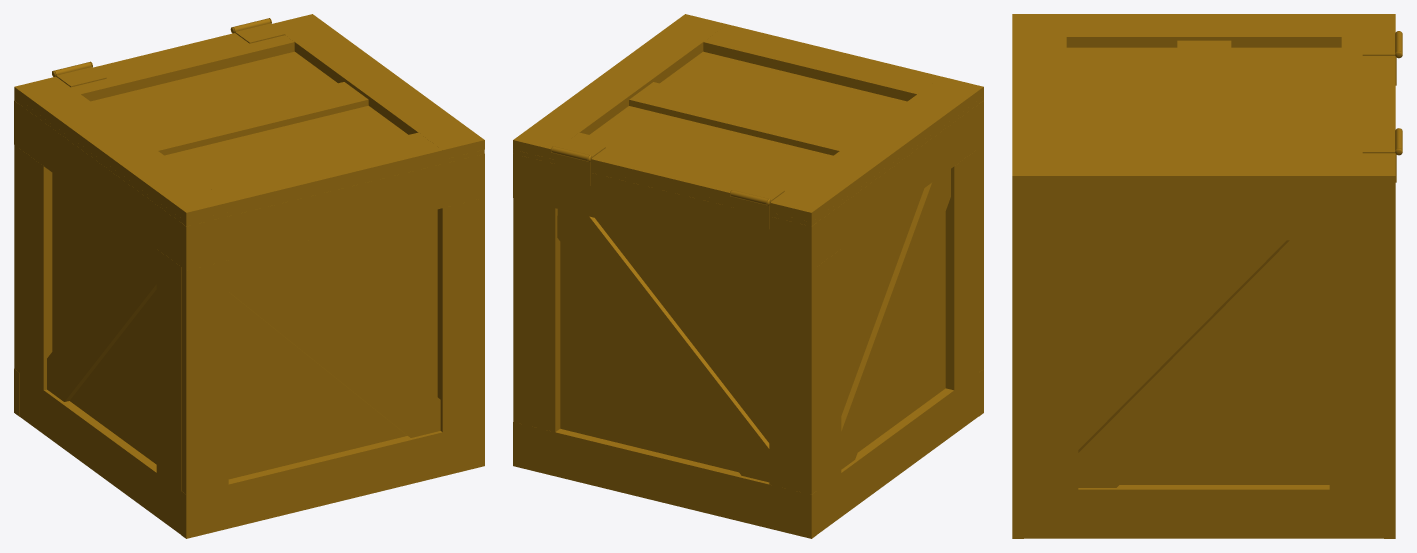
The picture shows the model from 3 angles, left to right: view 1: azimuth 30°, elevation 25°; view 2: azimuth 150°, elevation 25°; view 3: azimuth 270°, elevation 25°; orthographic projection. The views are drawn at different scales.
Parts seen in each view (by area): view 1: CUBO_BOX.001_Cube.003; view 2: CUBO_BOX.001_Cube.003; view 3: CUBO_BOX.001_Cube.003.
Boxes of the visible parts, left/top/right/bottom form: CUBO_BOX.001_Cube.003: left=14, top=14, right=484, bottom=538; CUBO_BOX.001_Cube.003: left=513, top=14, right=983, bottom=538; CUBO_BOX.001_Cube.003: left=1012, top=14, right=1402, bottom=538.
Bounding box in the file's own units: 1.89 × 2 × 1.92.
